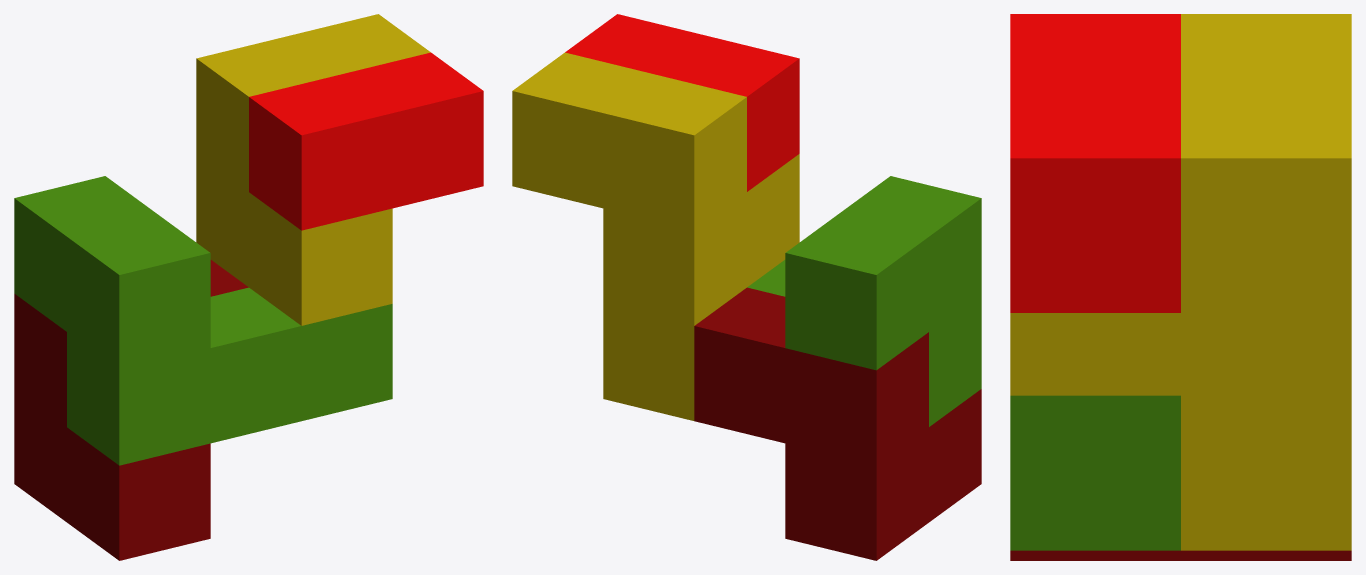
The picture shows the model from 3 angles, left to right: view 1: azimuth 30°, elevation 25°; view 2: azimuth 150°, elevation 25°; view 3: azimuth 270°, elevation 25°; orthographic projection. The views are drawn at different scales.
Parts seen in each view (by area): view 1: mergedBlocks(Clone); view 2: mergedBlocks(Clone); view 3: mergedBlocks(Clone).
Part boxes in pixels (<box>): mergedBlocks(Clone): <box>14,14,483,560</box>; mergedBlocks(Clone): <box>512,14,981,560</box>; mergedBlocks(Clone): <box>1010,14,1351,560</box>.
Size of the model in its own units: 4 by 4 by 2.
Materials: 4 (4 with a texture image).
